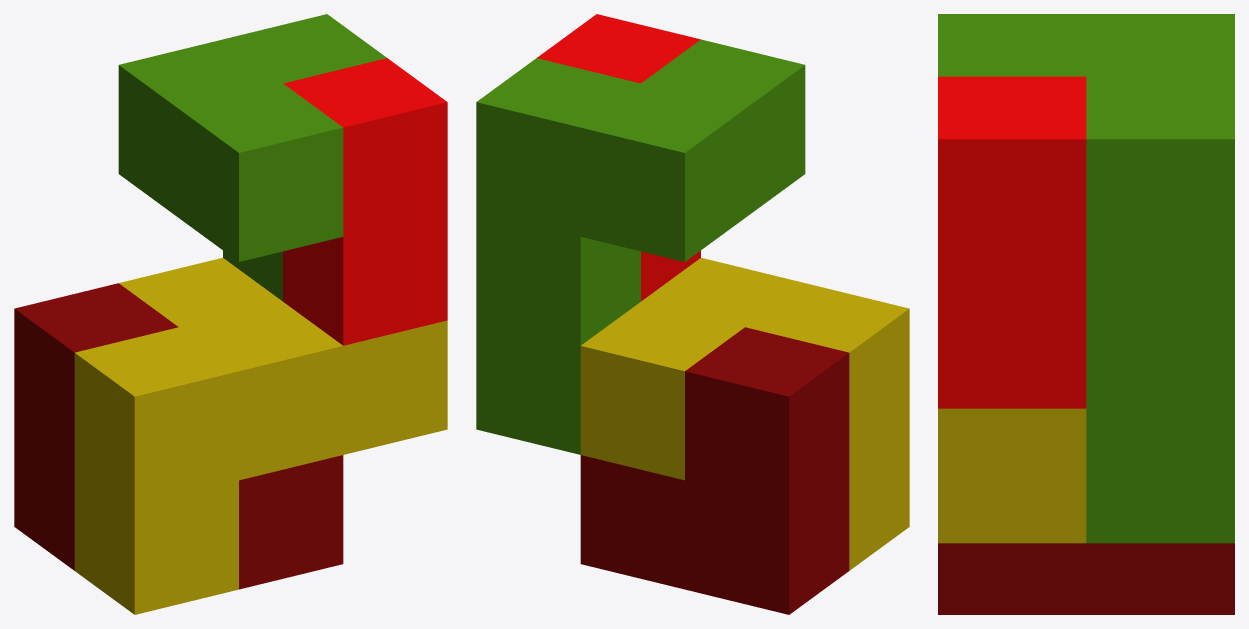
The picture shows the model from 3 angles, left to right: view 1: azimuth 30°, elevation 25°; view 2: azimuth 150°, elevation 25°; view 3: azimuth 270°, elevation 25°; orthographic projection. The views are drawn at different scales.
Parts seen in each view (by area): view 1: mergedBlocks(Clone); view 2: mergedBlocks(Clone); view 3: mergedBlocks(Clone).
Part boxes in pixels (box(x1,y1,x2,y2)): mergedBlocks(Clone): box(14, 14, 447, 614); mergedBlocks(Clone): box(476, 14, 909, 614); mergedBlocks(Clone): box(938, 14, 1234, 614).
Size of the model in its own units: 3 by 4 by 2.
4 materials, 4 textured.
